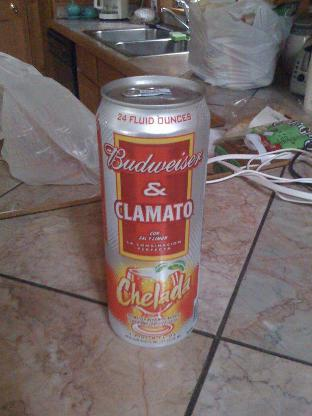Can: (90, 69, 212, 349)
